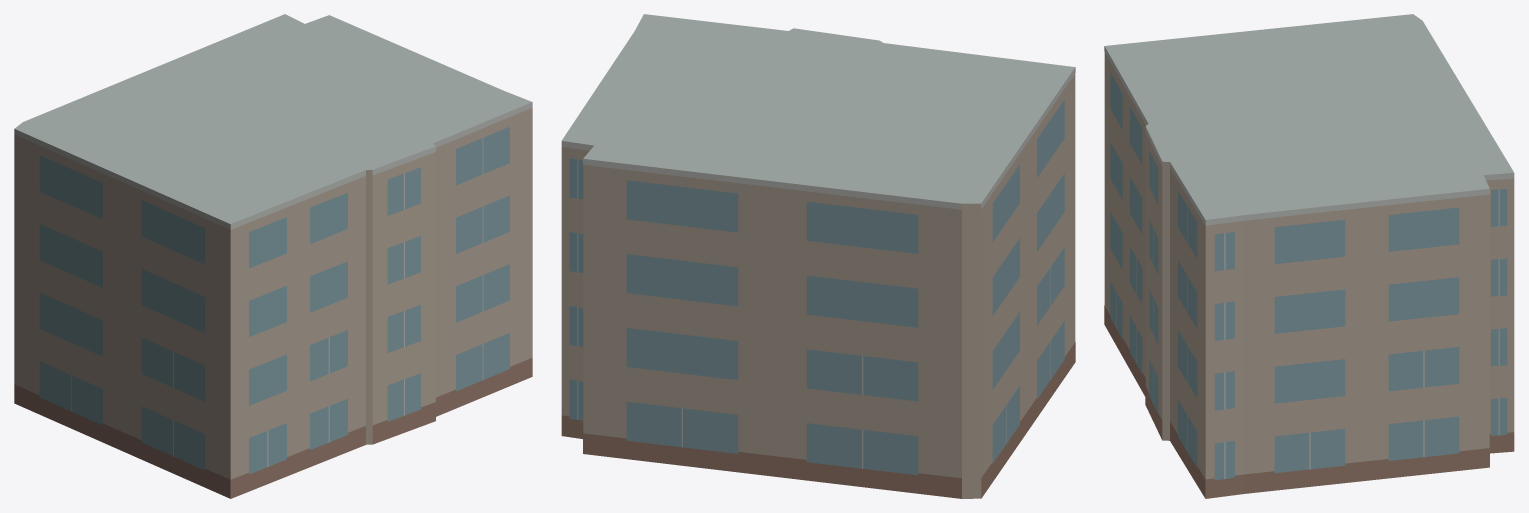
Rendered from survey-upis-32820318.glb.
The picture shows the model from 3 angles, left to right: view 1: azimuth 30°, elevation 25°; view 2: azimuth 150°, elevation 25°; view 3: azimuth 270°, elevation 25°; orthographic projection. The views are drawn at different scales.
Parts seen in each view (by area): view 1: survey-upis-32820318.tmp; view 2: survey-upis-32820318.tmp; view 3: survey-upis-32820318.tmp.
Part boxes in pixels (box(x1,y1,x2,y2)): survey-upis-32820318.tmp: box(14, 14, 532, 498); survey-upis-32820318.tmp: box(561, 14, 1075, 498); survey-upis-32820318.tmp: box(1104, 14, 1514, 498).
Bounding box in the file's own units: 19.04 × 12 × 16.
